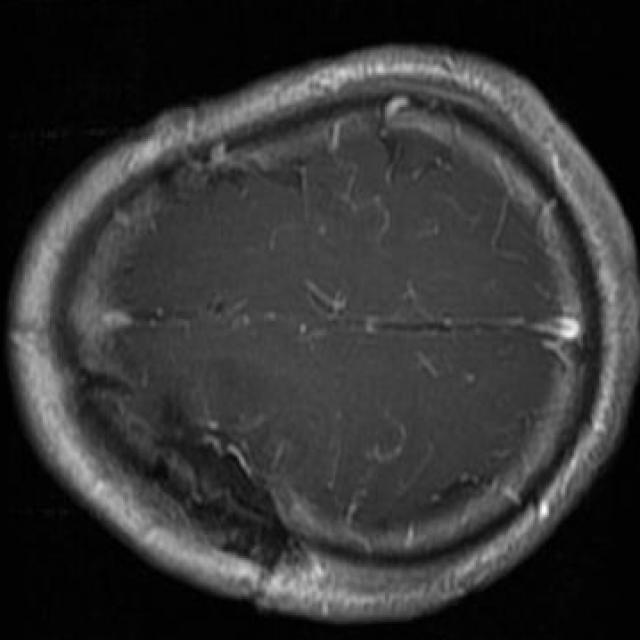glioma: (98, 385, 305, 547)
